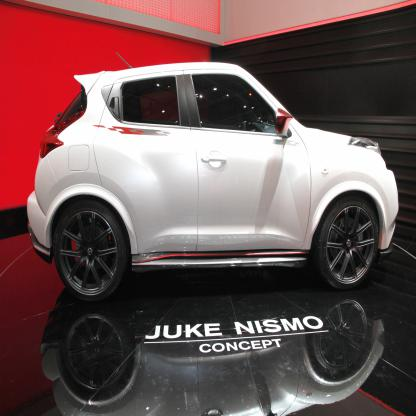Vehicle: (27, 62, 400, 300)
